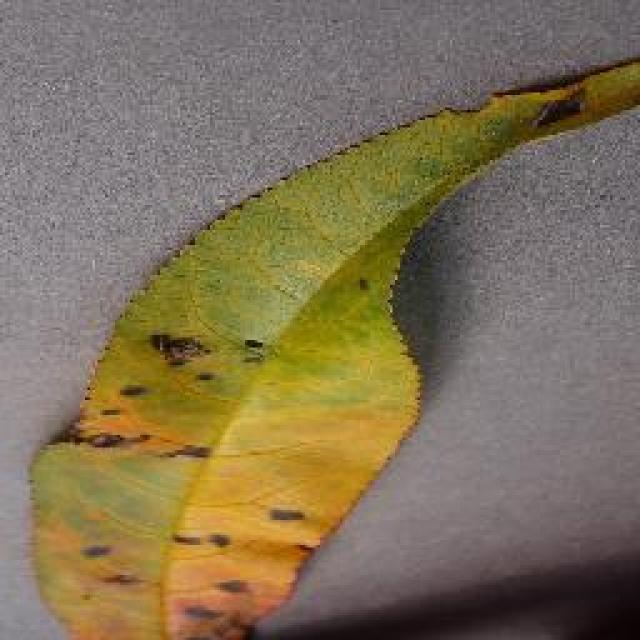Peach_Bacterial_Spot: (110, 300, 378, 605)
